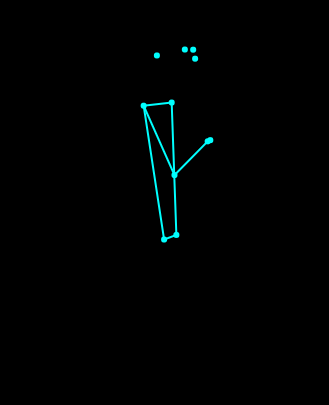warrior_1: (112, 35, 229, 249)
